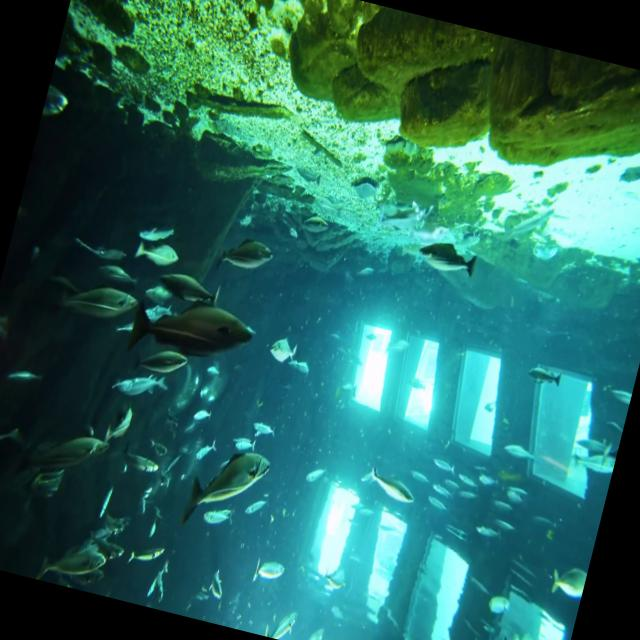fish: (125, 281, 260, 381), (180, 436, 272, 542), (12, 413, 114, 490), (54, 270, 142, 336), (414, 236, 478, 282)
